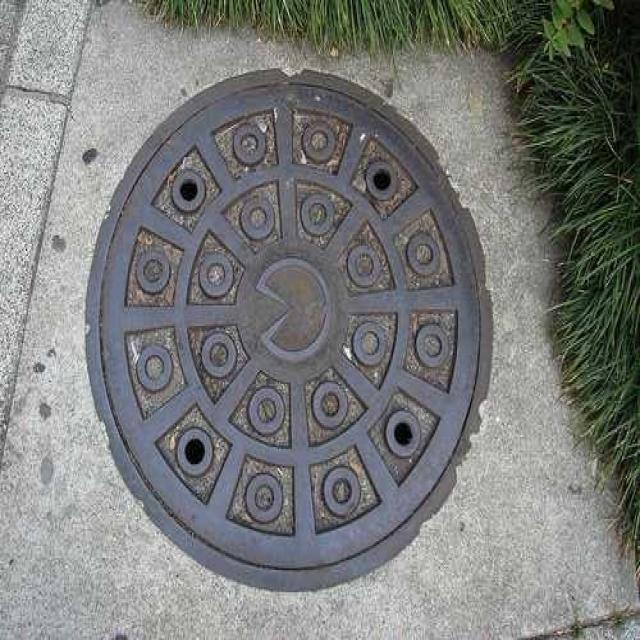manhole: (84, 68, 493, 594)
